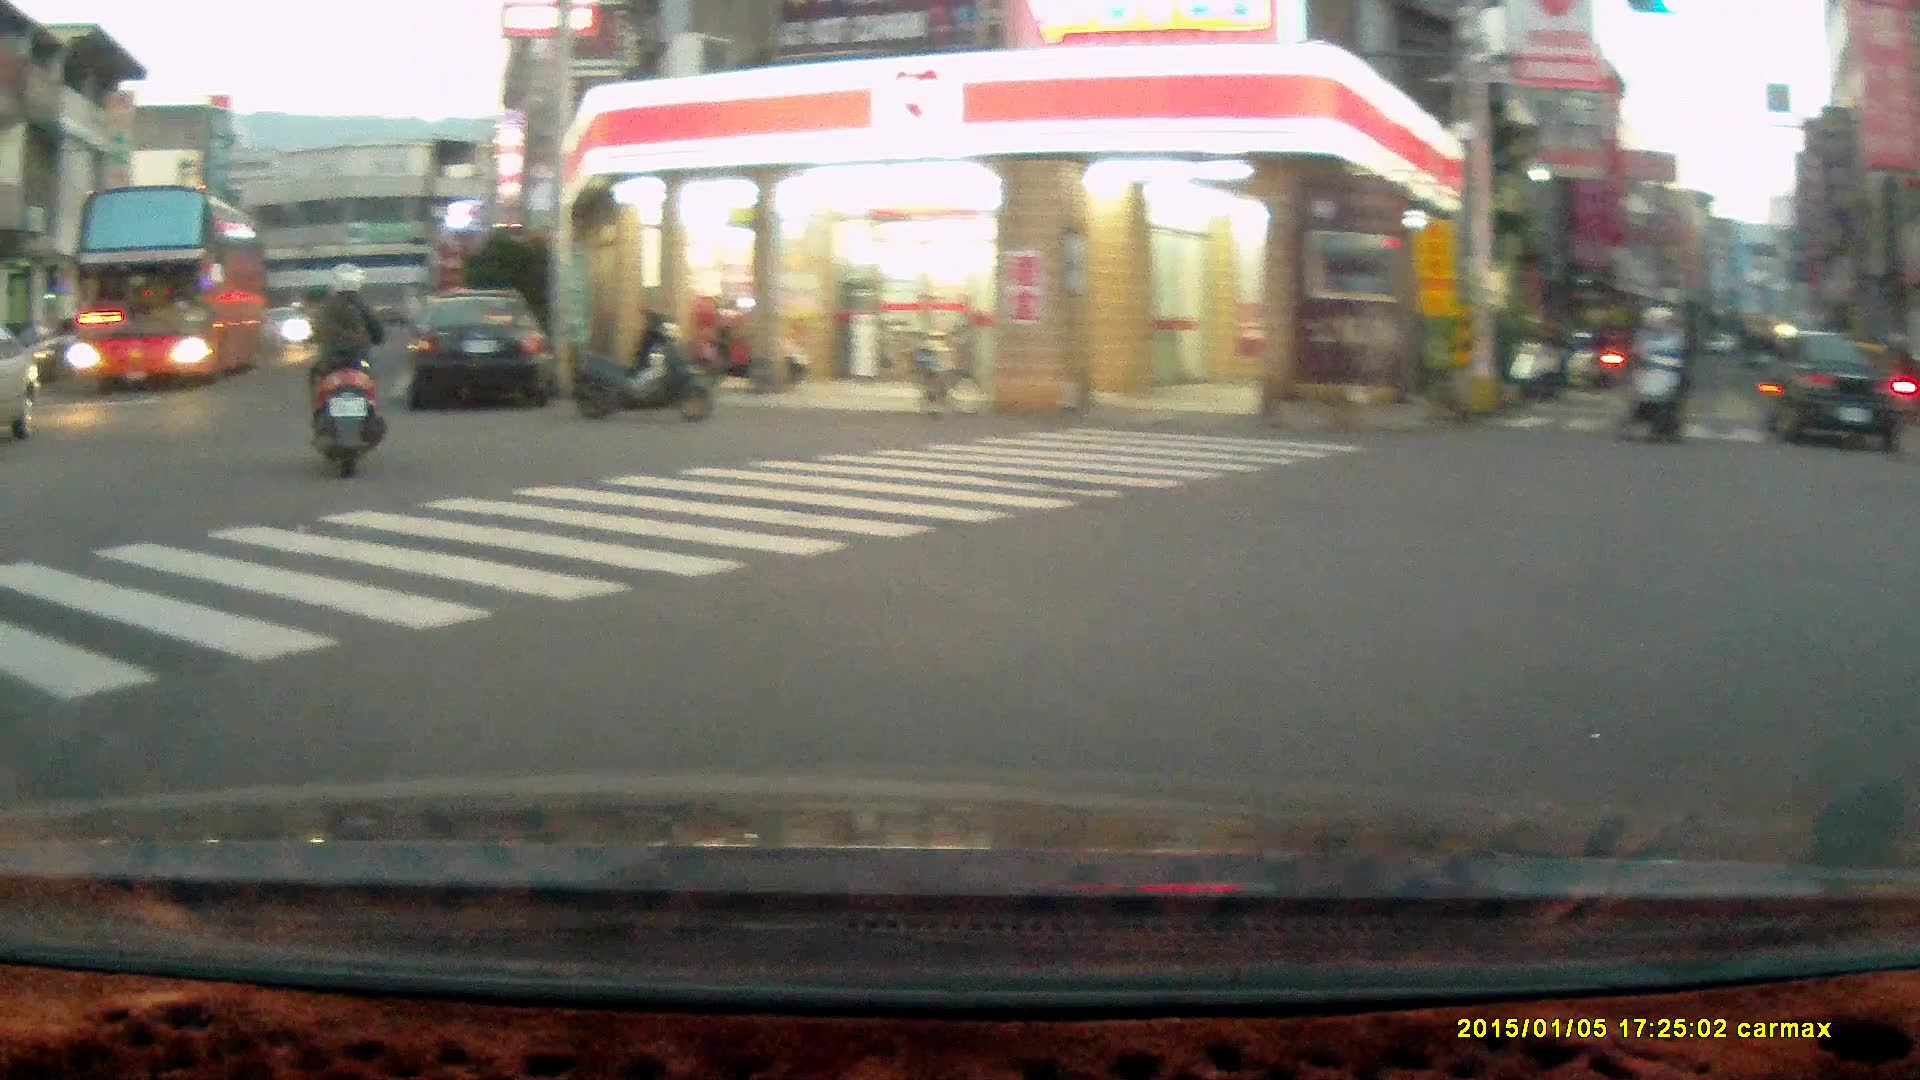rider: (296, 262, 393, 482), (1618, 302, 1689, 448)
vehicle: (70, 186, 268, 390), (1757, 335, 1905, 455), (403, 291, 554, 409)
